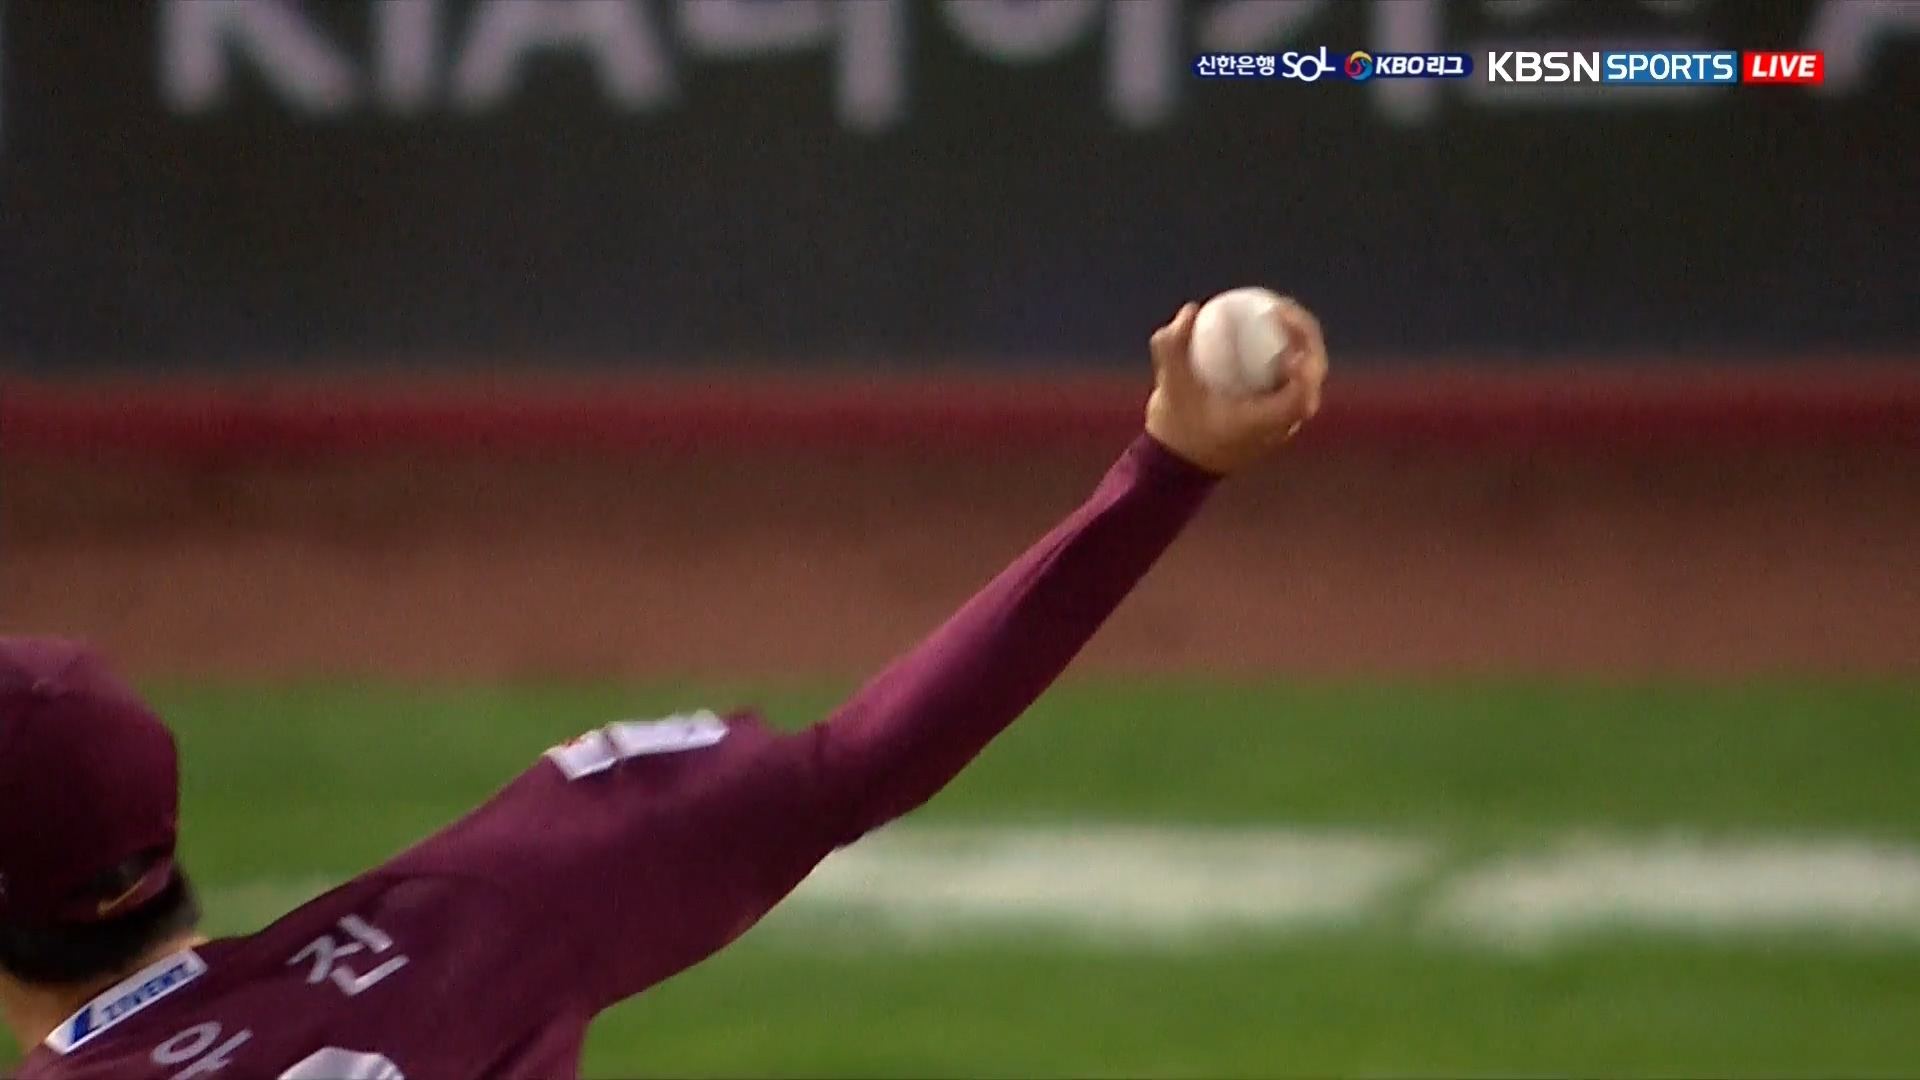zoomin_hand: (804, 261, 1360, 853)
